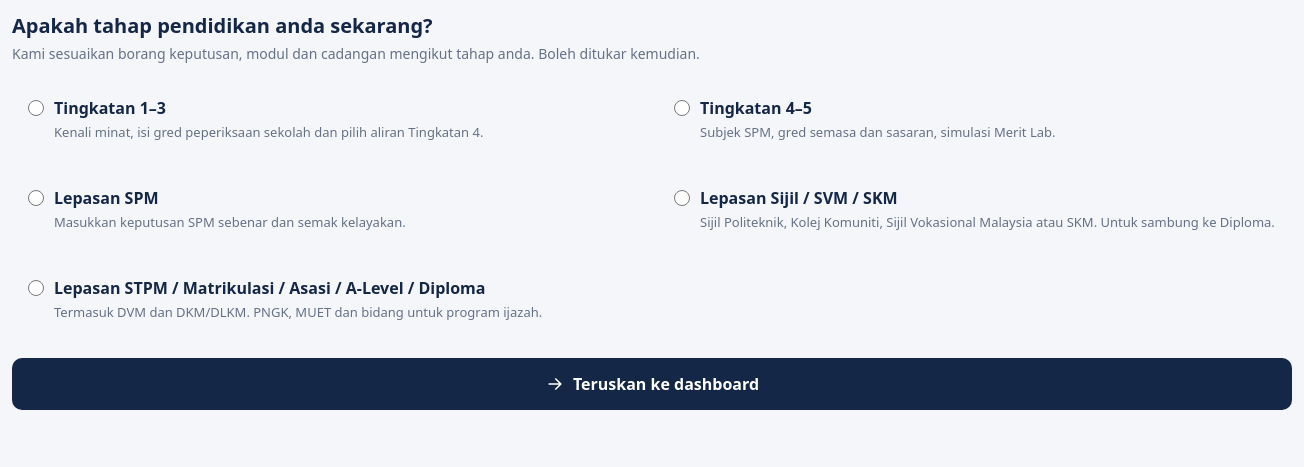
Test: LevelPicker › asks which form for Form 1–3, and names it on the button
Step 1. Click the radio button labelled "Tingkatan 1–3" → {"x": 36, "y": 108}, box [28,100,44,116]
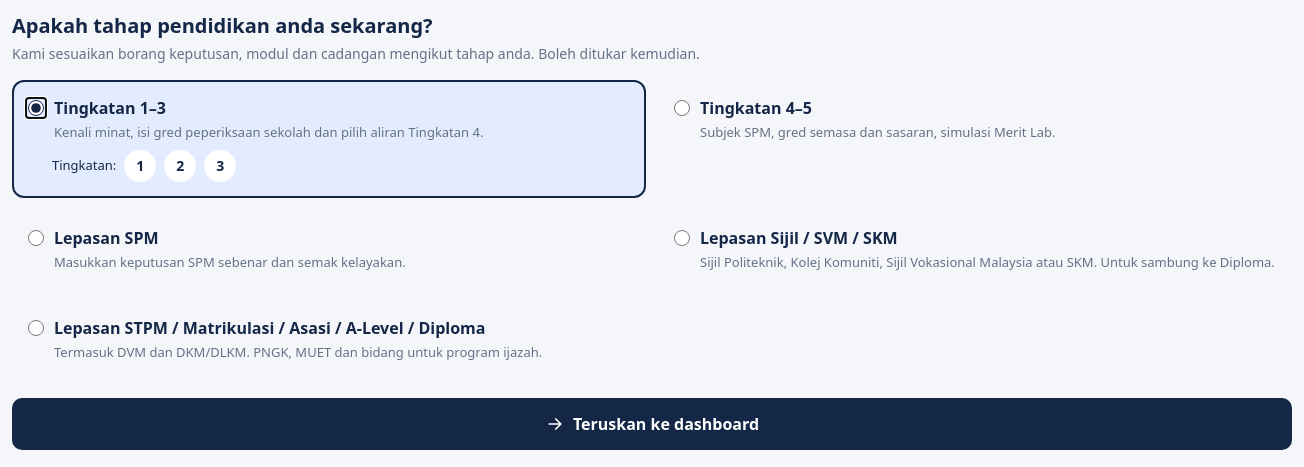
Now the element "Tingkatan:" is shown, box [52,150,236,182]
Step 2. Click the radio button labelled "3" → {"x": 220, "y": 166}, box [204,150,236,182]
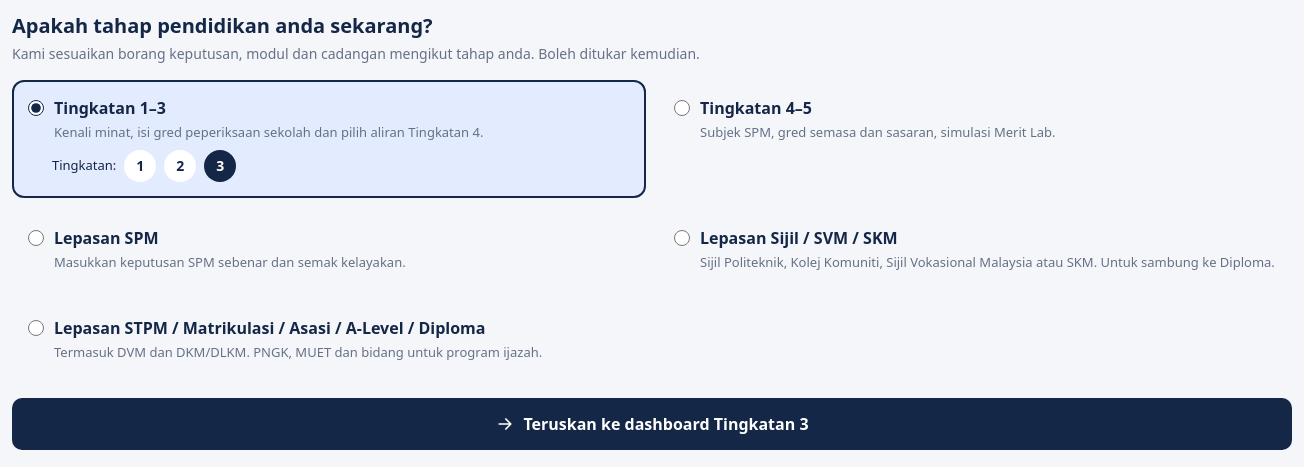
Now the button "Teruskan ke dashboard Tingkatan 3" is shown, box [12,398,1292,450]
